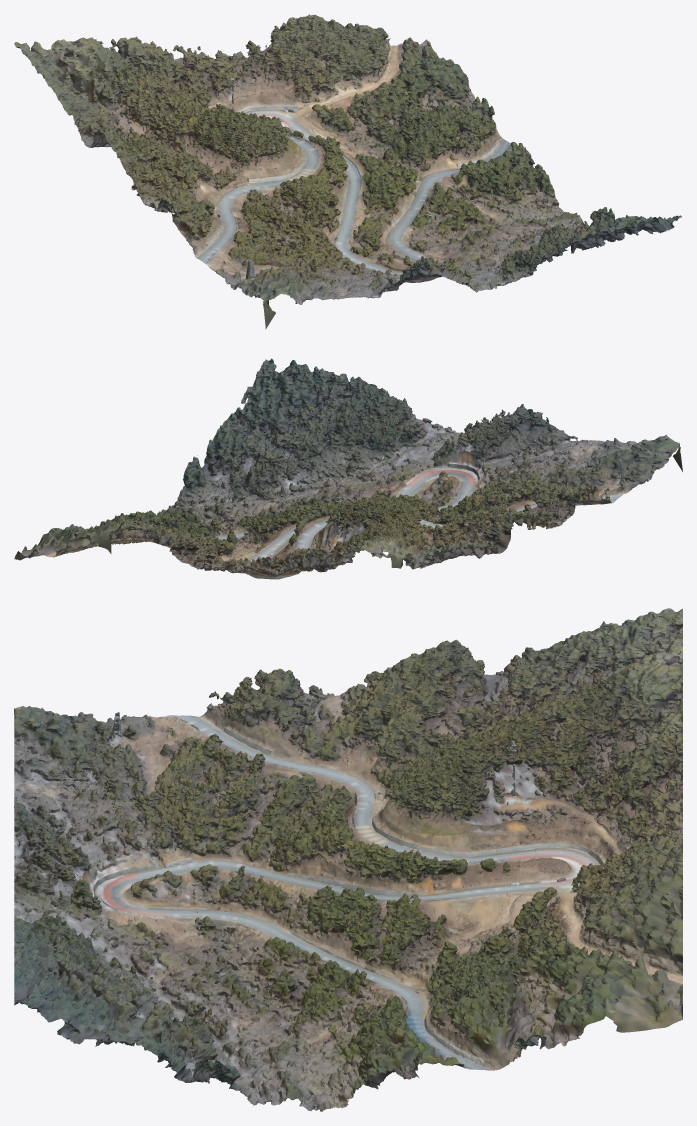
Rendered from road-hd.glb.
The picture shows the model from 3 angles, top to bottom: view 1: azimuth 30°, elevation 25°; view 2: azimuth 150°, elevation 25°; view 3: azimuth 270°, elevation 25°; orthographic projection. The views are drawn at different scales.
Parts seen in each view (by area): view 1: Object_2, Object_17, Object_11, Object_4, Object_10, Object_18, Object_15, Object_6, Object_14, Object_9, Object_19, Object_13 (+7 smaller); view 2: Object_2, Object_8, Object_19, Object_5, Object_12, Object_16, Object_13, Object_6, Object_14, Object_7, Object_11, Object_20 (+7 smaller); view 3: Object_2, Object_19, Object_12, Object_15, Object_7, Object_17, Object_6, Object_20, Object_5, Object_16, Object_14, Object_4 (+7 smaller).
Part boxes in pixels (bbox=[...]): Object_2: bbox=[14, 14, 681, 329]; Object_17: bbox=[304, 43, 597, 275]; Object_11: bbox=[50, 16, 675, 299]; Object_4: bbox=[157, 54, 465, 250]; Object_10: bbox=[15, 43, 535, 245]; Object_18: bbox=[117, 43, 453, 215]; Object_15: bbox=[15, 38, 674, 308]; Object_6: bbox=[202, 130, 509, 268]; Object_14: bbox=[43, 63, 679, 303]; Object_9: bbox=[247, 158, 528, 248]; Object_19: bbox=[136, 38, 664, 298]; Object_13: bbox=[72, 56, 453, 287]; Object_2: bbox=[14, 358, 682, 573]; Object_8: bbox=[164, 385, 372, 540]; Object_19: bbox=[16, 386, 621, 558]; Object_5: bbox=[171, 412, 466, 560]; Object_12: bbox=[14, 427, 678, 573]; Object_16: bbox=[114, 366, 530, 521]; Object_13: bbox=[370, 418, 565, 567]; Object_6: bbox=[228, 456, 457, 555]; Object_14: bbox=[122, 361, 656, 579]; Object_7: bbox=[211, 384, 457, 579]; Object_11: bbox=[62, 359, 569, 576]; Object_20: bbox=[267, 443, 649, 579]; Object_2: bbox=[14, 608, 682, 1111]; Object_19: bbox=[14, 658, 682, 1104]; Object_12: bbox=[14, 693, 682, 1105]; Object_15: bbox=[14, 611, 682, 1111]; Object_7: bbox=[44, 698, 625, 1063]; Object_17: bbox=[34, 842, 627, 1009]; Object_6: bbox=[129, 753, 510, 996]; Object_20: bbox=[43, 694, 625, 857]; Object_5: bbox=[45, 835, 624, 1001]; Object_16: bbox=[14, 794, 490, 1098]; Object_14: bbox=[14, 628, 625, 1064]; Object_4: bbox=[224, 710, 625, 991].
Bounding box in the file's own units: 337 × 137 × 353.
Materials: 1 (1 with a texture image).
